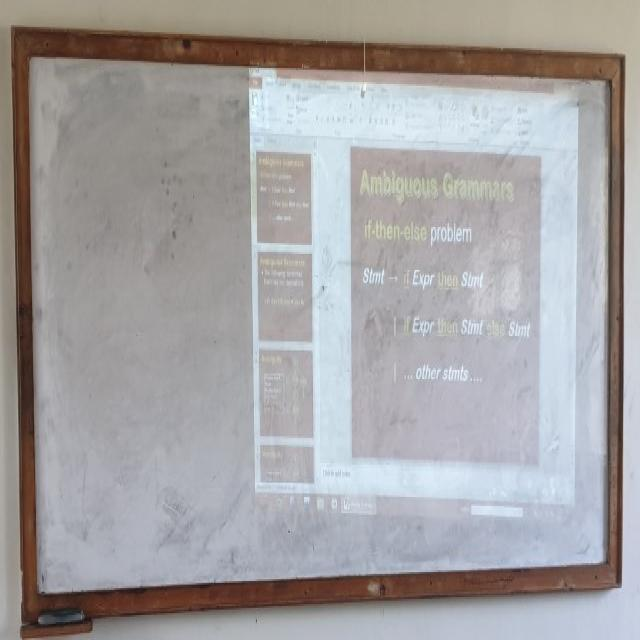Slide: (249, 47, 578, 536)
White-board: (20, 36, 619, 608)
